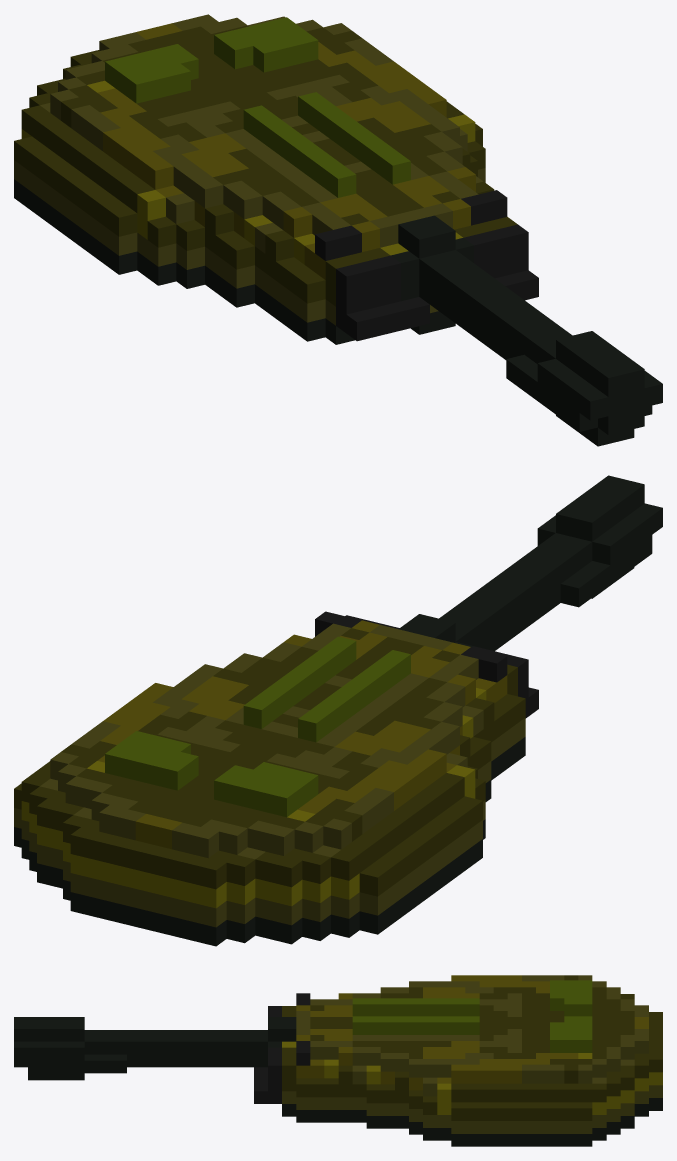
Rendered from flame-weapon.glb.
The picture shows the model from 3 angles, top to bottom: view 1: azimuth 30°, elevation 25°; view 2: azimuth 150°, elevation 25°; view 3: azimuth 270°, elevation 25°; orthographic projection. The views are drawn at different scales.
Visible parts, largest first — view 1: Untitled; view 2: Untitled; view 3: Untitled.
Boxes of the visible parts, bbox=[...] form: Untitled: bbox=[14, 14, 662, 446]; Untitled: bbox=[14, 475, 662, 946]; Untitled: bbox=[14, 975, 662, 1146].
Size of the model in its own units: 2 by 0.6 by 4.6.
1 material, 1 textured.
